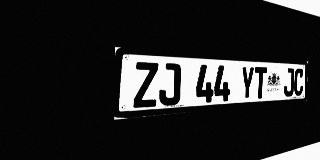4: (196, 64, 214, 103), (214, 65, 231, 102)
C: (294, 68, 304, 96)
J: (159, 63, 181, 106), (284, 68, 294, 97)
T: (254, 67, 267, 99)
Y: (240, 66, 254, 100)
Z: (133, 62, 158, 108)
